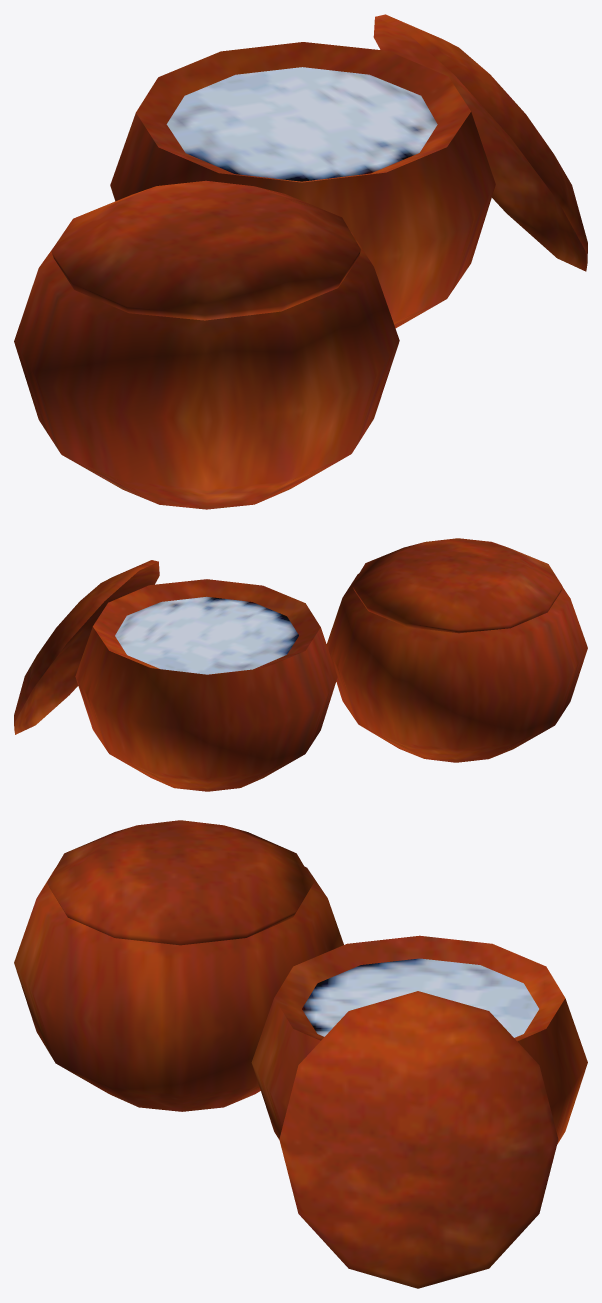
File: icon1.ico.obj
3 renders of one model, top to bottom at view 1: azimuth 30°, elevation 25°; view 2: azimuth 150°, elevation 25°; view 3: azimuth 270°, elevation 25°, orthographic. The views are drawn at different scales.
Size of the model in its own units: 3.2 by 1.23 by 2.76.
1 material, 1 textured.
